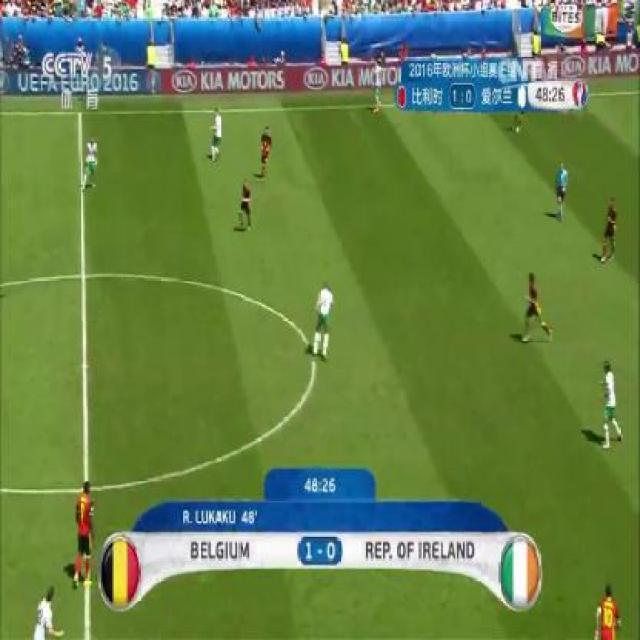player: (518, 271, 557, 352), (307, 278, 339, 363), (598, 354, 626, 451), (72, 480, 97, 588), (33, 582, 69, 640), (592, 581, 625, 640), (596, 192, 620, 263), (255, 121, 279, 182), (234, 173, 257, 232), (206, 104, 229, 162), (368, 58, 387, 117), (83, 137, 101, 188)
referee: (549, 158, 569, 224)
